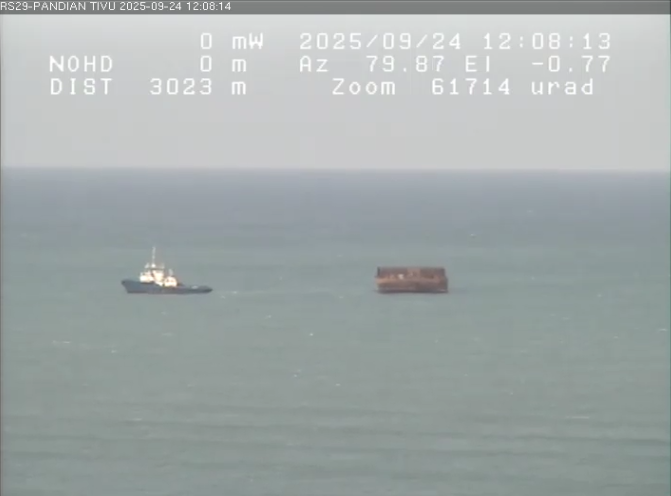BARGE: (346, 249, 479, 315)
OFFSHORE_SUPPLY_VESSEL: (103, 235, 237, 308)
TOWING: (73, 196, 519, 374)
